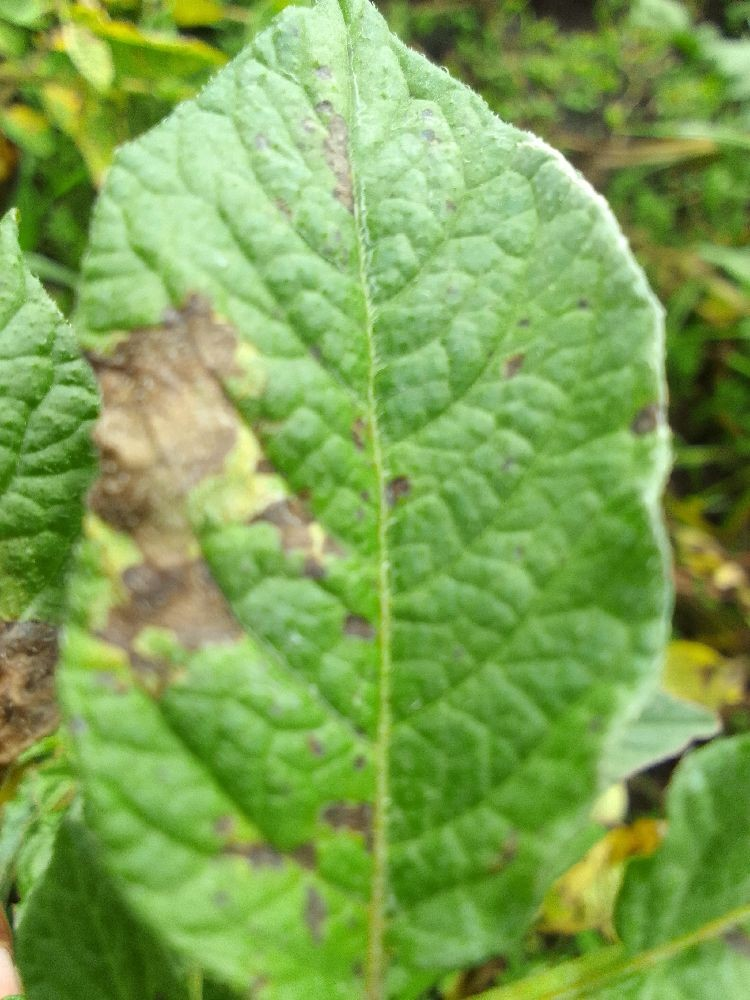late_blight: (70, 276, 353, 706), (609, 238, 750, 791), (491, 40, 748, 333), (0, 594, 82, 817)
